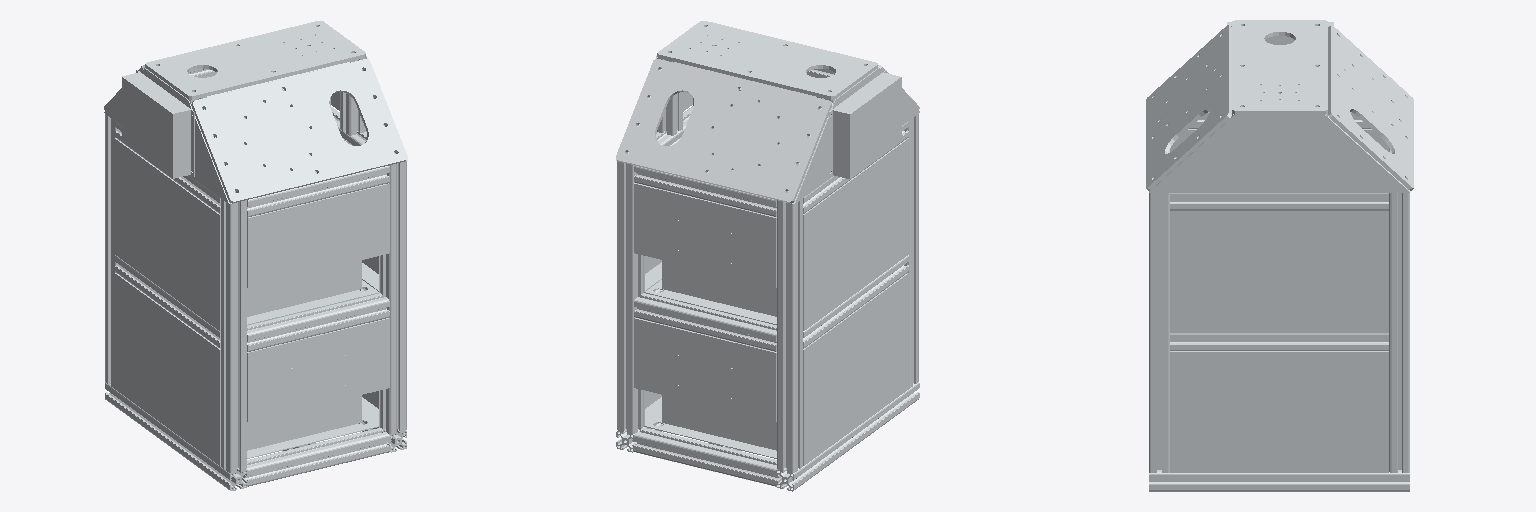
robot.urdf — mobile_dual_arm:
<?xml version="1.0" encoding="utf-8"?>
<!-- This URDF was automatically created by SolidWorks to URDF Exporter! Originally created by [author] ([email redacted]) 
     Commit Version: 1.5.1-0-g916b5db  Build Version: 1.5.7152.31018
     For more information, please see http://wiki.ros.org/sw_urdf_exporter -->
<robot
  name="mobile_dual_arm">
  <link
    name="body_base_link">
    <inertial>
      <origin
        xyz="-0.00727317613555882 0.000177642281680983 0.348737018525742"
        rpy="0 0 0" />
      <mass
        value="66.8179754832155" />
      <inertia
        ixx="0.864769333517005"
        ixy="8.0431227004378E-11"
        ixz="8.52015709303559E-10"
        iyy="0.693625288679801"
        iyz="1.14906238170287E-10"
        izz="0.958343996689488" />
    </inertial>
    <visual>
      <origin
        xyz="0 0 0"
        rpy="0 0 0" />
      <geometry>
        <mesh
          filename="package://mobile_dual_arm/meshes/body_base_link.STL" />
      </geometry>
      <material
        name="">
        <color
          rgba="0.898039215686275 0.917647058823529 0.929411764705882 1" />
      </material>
    </visual>
    <collision>
      <origin
        xyz="0 0 0"
        rpy="0 0 0" />
      <geometry>
        <mesh
          filename="package://mobile_dual_arm/meshes/body_base_link.STL" />
      </geometry>
    </collision>
  </link>

  <link
    name="body_right_arm_base_link">
    <visual>
      <origin
        xyz="0 0 0"
        rpy="0 0 0" />
    </visual>
  </link>

  <joint
    name="body_right_arm_base_joint"
    type="fixed">
    <origin
      xyz="-0.05 -0.17283 0.70344"
      rpy="0.7854 0 0" />
    <parent
      link="body_base_link" />
    <child
      link="body_right_arm_base_link" />
    <axis
      xyz="0 0 0" />
    <limit
      lower="-1.57"
      upper="1.57"
      effort="0"
      velocity="0" />
  </joint>

  <link
    name="right_arm_base_link">
    <visual>
      <origin
        xyz="0 0 0"
        rpy="0 0 0" />
    </visual>
  </link>

  <joint
    name="right_arm_base_joint"
    type="fixed">
    <origin
      xyz="0.00011627 0.00011627 0"
      rpy="0 0 0" />
    <parent
      link="body_right_arm_base_link" />
    <child
      link="right_arm_base_link" />
    <axis
      xyz="0 0 0" />
    <limit
      lower="-1.57"
      upper="1.57"
      effort="0"
      velocity="0" />
  </joint>

  <link
    name="body_left_arm_base_link">
    <visual>
      <origin
        xyz="0 0 0"
        rpy="0 0 0" />
    </visual>
  </link>

  <joint
    name="body_left_arm_base_joint"
    type="fixed">
    <origin
      xyz="-0.049884 0.1744 0.70352"
      rpy="-0.7854 0 0" />
    <parent
      link="body_base_link" />
    <child
      link="body_left_arm_base_link" />
    <axis
      xyz="0 0 0" />
    <limit
      lower="-1.57"
      upper="1.57"
      effort="0"
      velocity="0" />
  </joint>

  <link
    name="left_arm_base_link">
    <visual>
      <origin
        xyz="0 0 0"
        rpy="0 0 0" />
    </visual>
  </link>

  <joint
    name="left_arm_base_joint"
    type="fixed">
    <origin
      xyz="0 0 -0.0005"
      rpy="0 0 0" />
    <parent
      link="body_left_arm_base_link" />
    <child
      link="left_arm_base_link" />
    <axis
      xyz="0 0 0" />
    <limit
      lower="-1.57"
      upper="1.57"
      effort="0"
      velocity="0" />
  </joint>
</robot>

--- Render facts (derived) ---
Views: 3 orthographic renders of the robot side by side, from view 1: azimuth 30°, elevation 25°; view 2: azimuth 150°, elevation 25°; view 3: azimuth 270°, elevation 25°.
Model mobile_dual_arm with 5 links and 4 joints (4 fixed), rooted at body_base_link, posed every joint at zero.
Links seen in each view (by area): view 1: body_base_link; view 2: body_base_link; view 3: body_base_link.
Boxes of the visible links, <box> form: body_base_link: <box>104,21,407,490</box>; body_base_link: <box>616,21,919,491</box>; body_base_link: <box>1146,20,1413,491</box>.
Size in the robot's own frame: 0.446 by 0.5029 by 0.788 metres.
Meshes: 1 distinct files referenced, 1 mesh visuals loaded (1 binary STL).